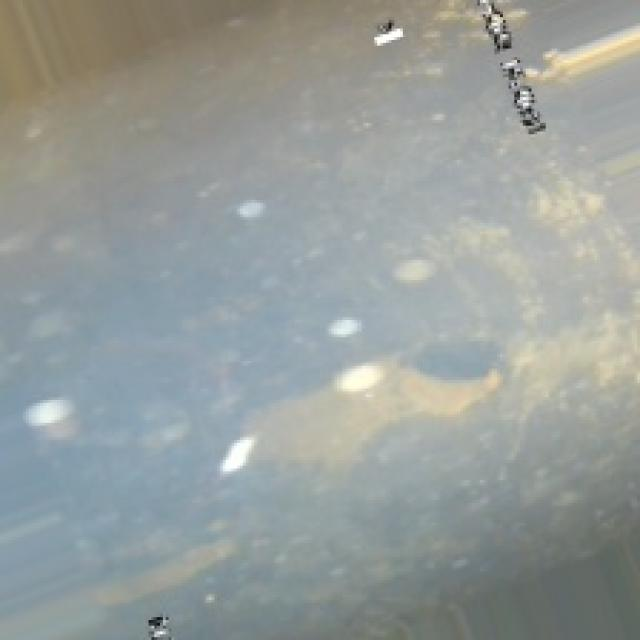pipe_surface_damage: (309, 334, 517, 414)
